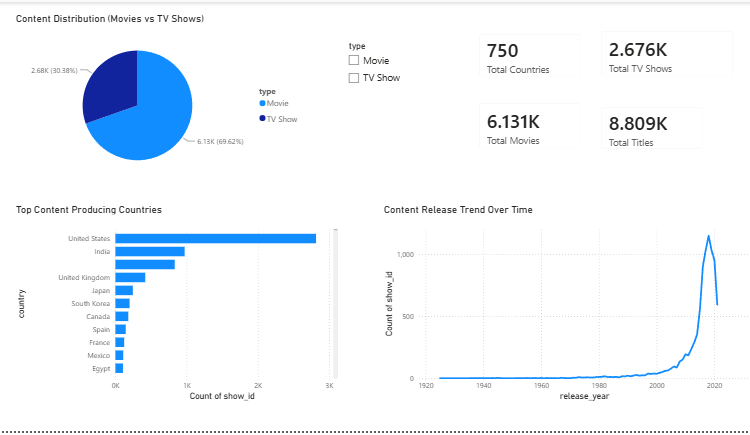

Layout of this report page (visuals, bound fields, positions):
{"tool":"powerbi","page":{"name":"Page 1","canvas":[1280,720],"ordinal":0},"visuals":[{"type":"pieChart","title":"Content Distribution (Movies vs TV Shows)","fields":{"Y":["CountNonNull(netflix_titles.show_id)"],"Category":["netflix_titles.type"]},"box":[21.8,16.8,492.2,283.9],"z":0},{"type":"cardVisual","fields":{"Data":["Count(netflix_titles.show_id)"]},"box":[992.8,159.6,204.9,104.1],"z":1000},{"type":"cardVisual","fields":{"Data":["CountNonNull(netflix_titles.type)"]},"box":[787.8,152.9,204.9,110.9],"z":2000},{"type":"cardVisual","fields":{"Data":["CountNonNull(netflix_titles.type)"]},"box":[992.8,31.9,255.3,110.9],"z":3000},{"type":"cardVisual","title":"Total Countries","fields":{"Data":["Count(netflix_titles.country)"]},"box":[787.8,37,204.9,105.8],"z":4000},{"type":"clusteredBarChart","title":"Top Content Producing Countries","fields":{"Category":["netflix_titles.country"],"Y":["CountNonNull(netflix_titles.show_id)"]},"box":[21.8,337.6,551,337.6],"z":5000},{"type":"lineChart","title":"Content Release Trend Over Time","fields":{"Category":["netflix_titles.release_year"],"Y":["CountNonNull(netflix_titles.show_id)"]},"box":[640,337.6,626.6,337.6],"z":6000},{"type":"slicer","fields":{"Values":["netflix_titles.type"]},"box":[572.8,60.5,132.7,99.1],"z":7000}]}

Visuals, with their boxes on the page's 1280x720 design canvas (x1, y1, x2, y2). These are canvas units, not pixel positions in the 750x435 screenshot, which may show the page scaled, cropped or inside an application window:
"Content Distribution (Movies vs TV Shows)" pieChart: box=[22, 17, 514, 301]
cardVisual - Count(netflix_titles.show_id): box=[993, 160, 1198, 264]
cardVisual - CountNonNull(netflix_titles.type): box=[788, 153, 993, 264]
cardVisual - CountNonNull(netflix_titles.type): box=[993, 32, 1248, 143]
"Total Countries" cardVisual: box=[788, 37, 993, 143]
"Top Content Producing Countries" clusteredBarChart: box=[22, 338, 573, 675]
"Content Release Trend Over Time" lineChart: box=[640, 338, 1267, 675]
slicer - netflix_titles.type: box=[573, 60, 706, 160]
